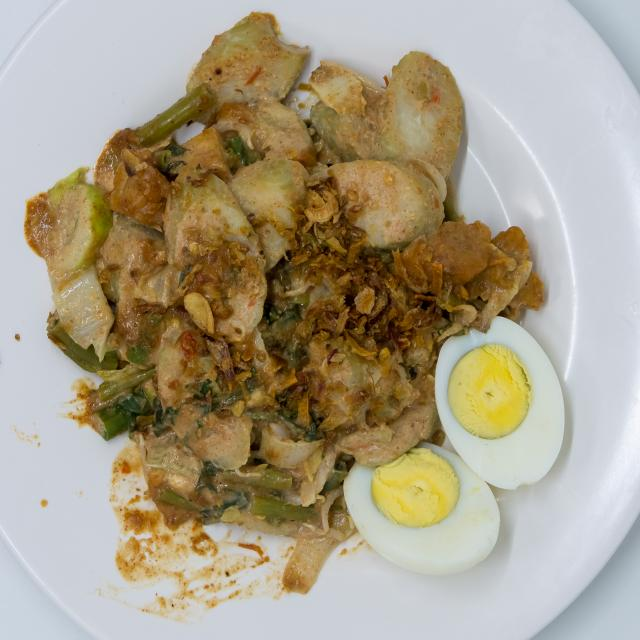Gado-Gado: (16, 6, 576, 586)
